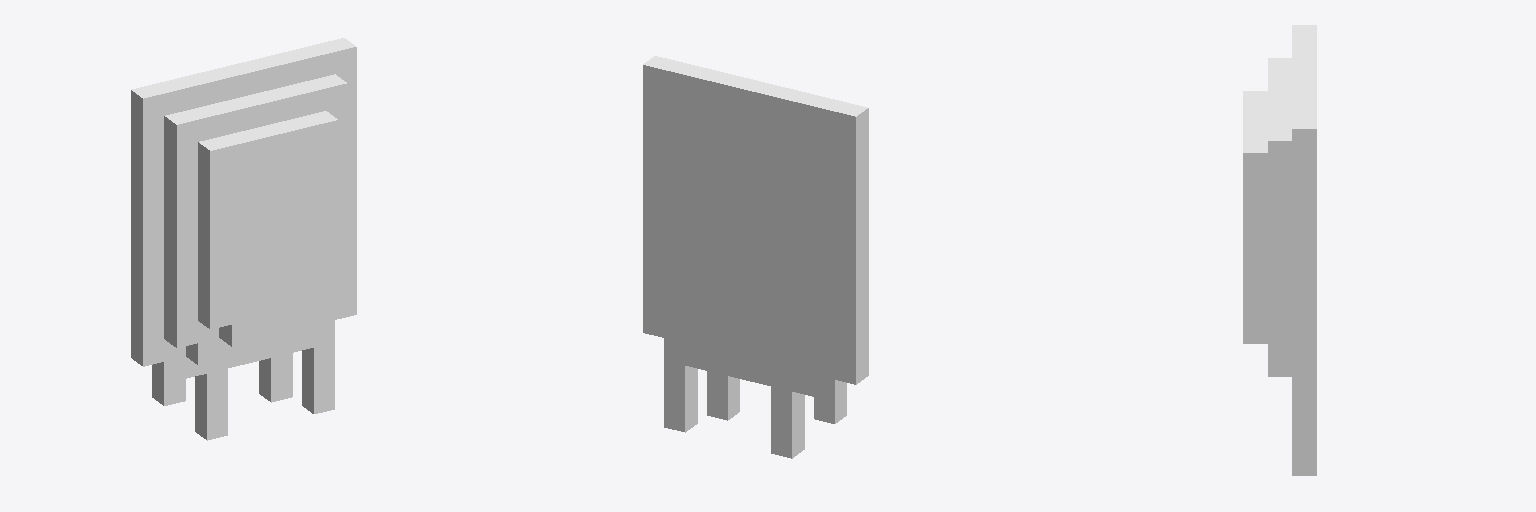
Rendered from banner_1.obj.
3 views of the same model, side by side, from view 1: azimuth 30°, elevation 25°; view 2: azimuth 150°, elevation 25°; view 3: azimuth 270°, elevation 25° (orthographic).
Parts seen in each view (by area): view 1: object 1; view 2: object 1; view 3: object 1.
Part boxes in pixels (bbox=[...]): object 1: bbox=[131, 38, 356, 440]; object 1: bbox=[643, 56, 868, 458]; object 1: bbox=[1243, 25, 1316, 475].
Size of the model in its own units: 1 by 1.6 by 0.3.